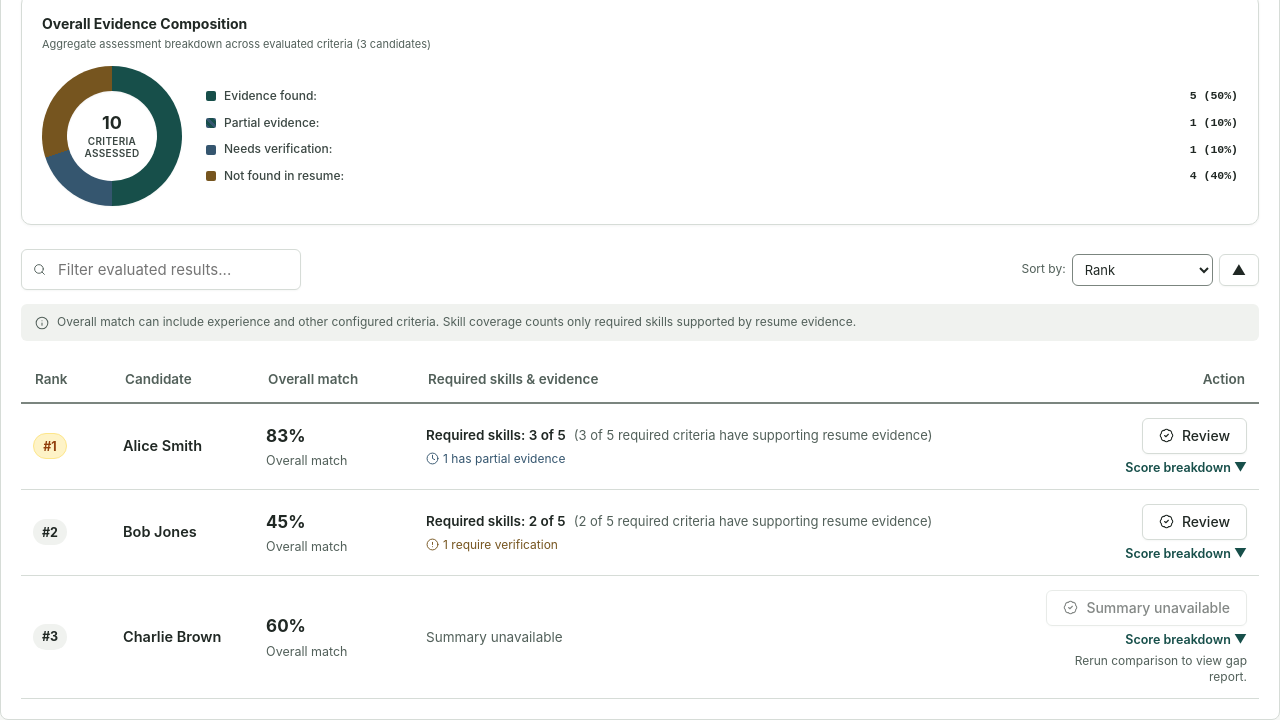
Test: CandidateComparisonView Gap Workflow › displays user-friendly retry message on failure without crashing
(page scrolled)
Click the 1st button "Review".
click(1194, 436)  # box [1142, 418, 1247, 454]
(page scrolled)
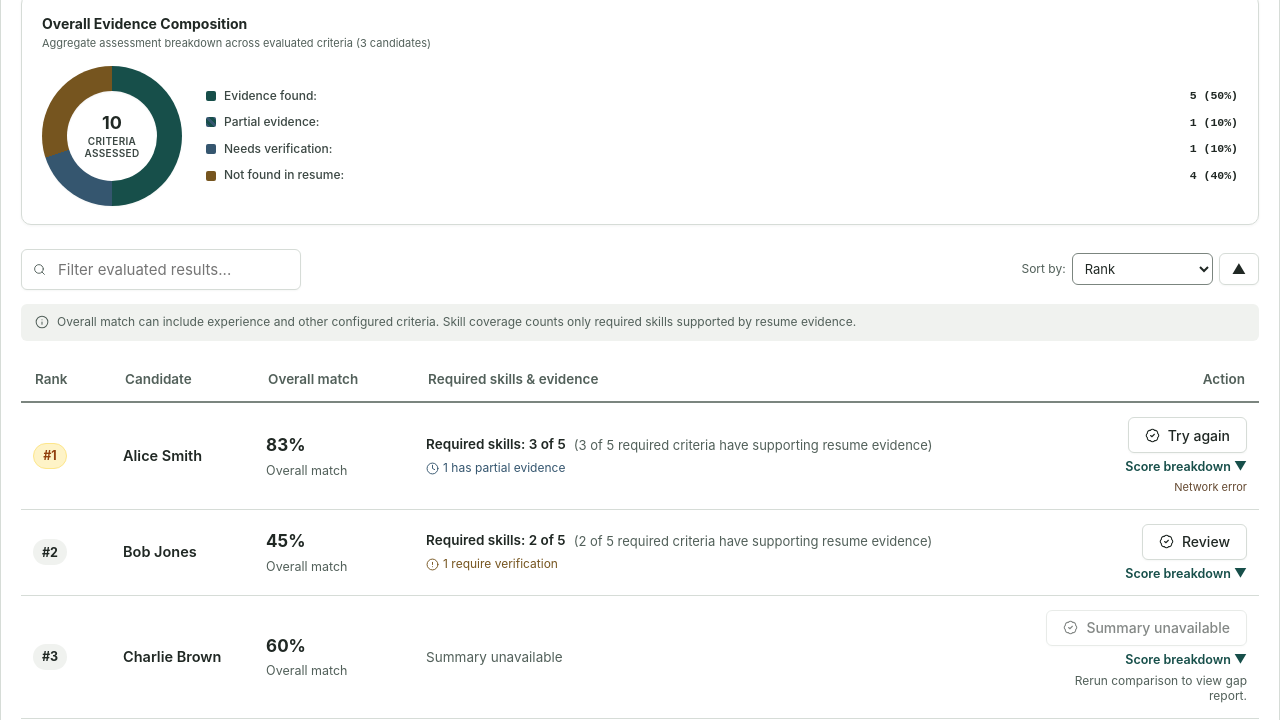
Expected: the button "Try again" is shown, [1128, 417, 1247, 453]
